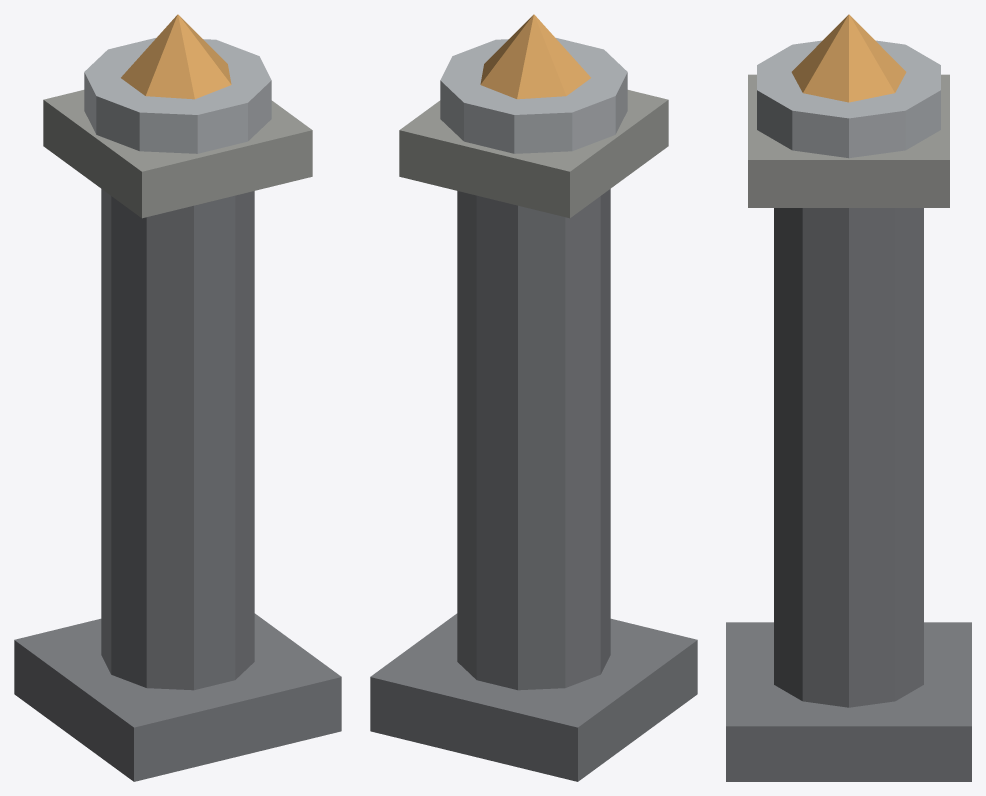
File: pillar.fbx
3 views of the same model, side by side, from view 1: azimuth 30°, elevation 25°; view 2: azimuth 150°, elevation 25°; view 3: azimuth 270°, elevation 25° (orthographic). The views are drawn at different scales.
Visible parts, largest first — view 1: pillar; view 2: pillar; view 3: pillar.
Boxes of the visible parts, x1,y1,x2,y2 form: pillar: (14, 14, 341, 781); pillar: (370, 14, 697, 781); pillar: (726, 14, 971, 781).
Size of the model in its own units: 140 by 450 by 140.
